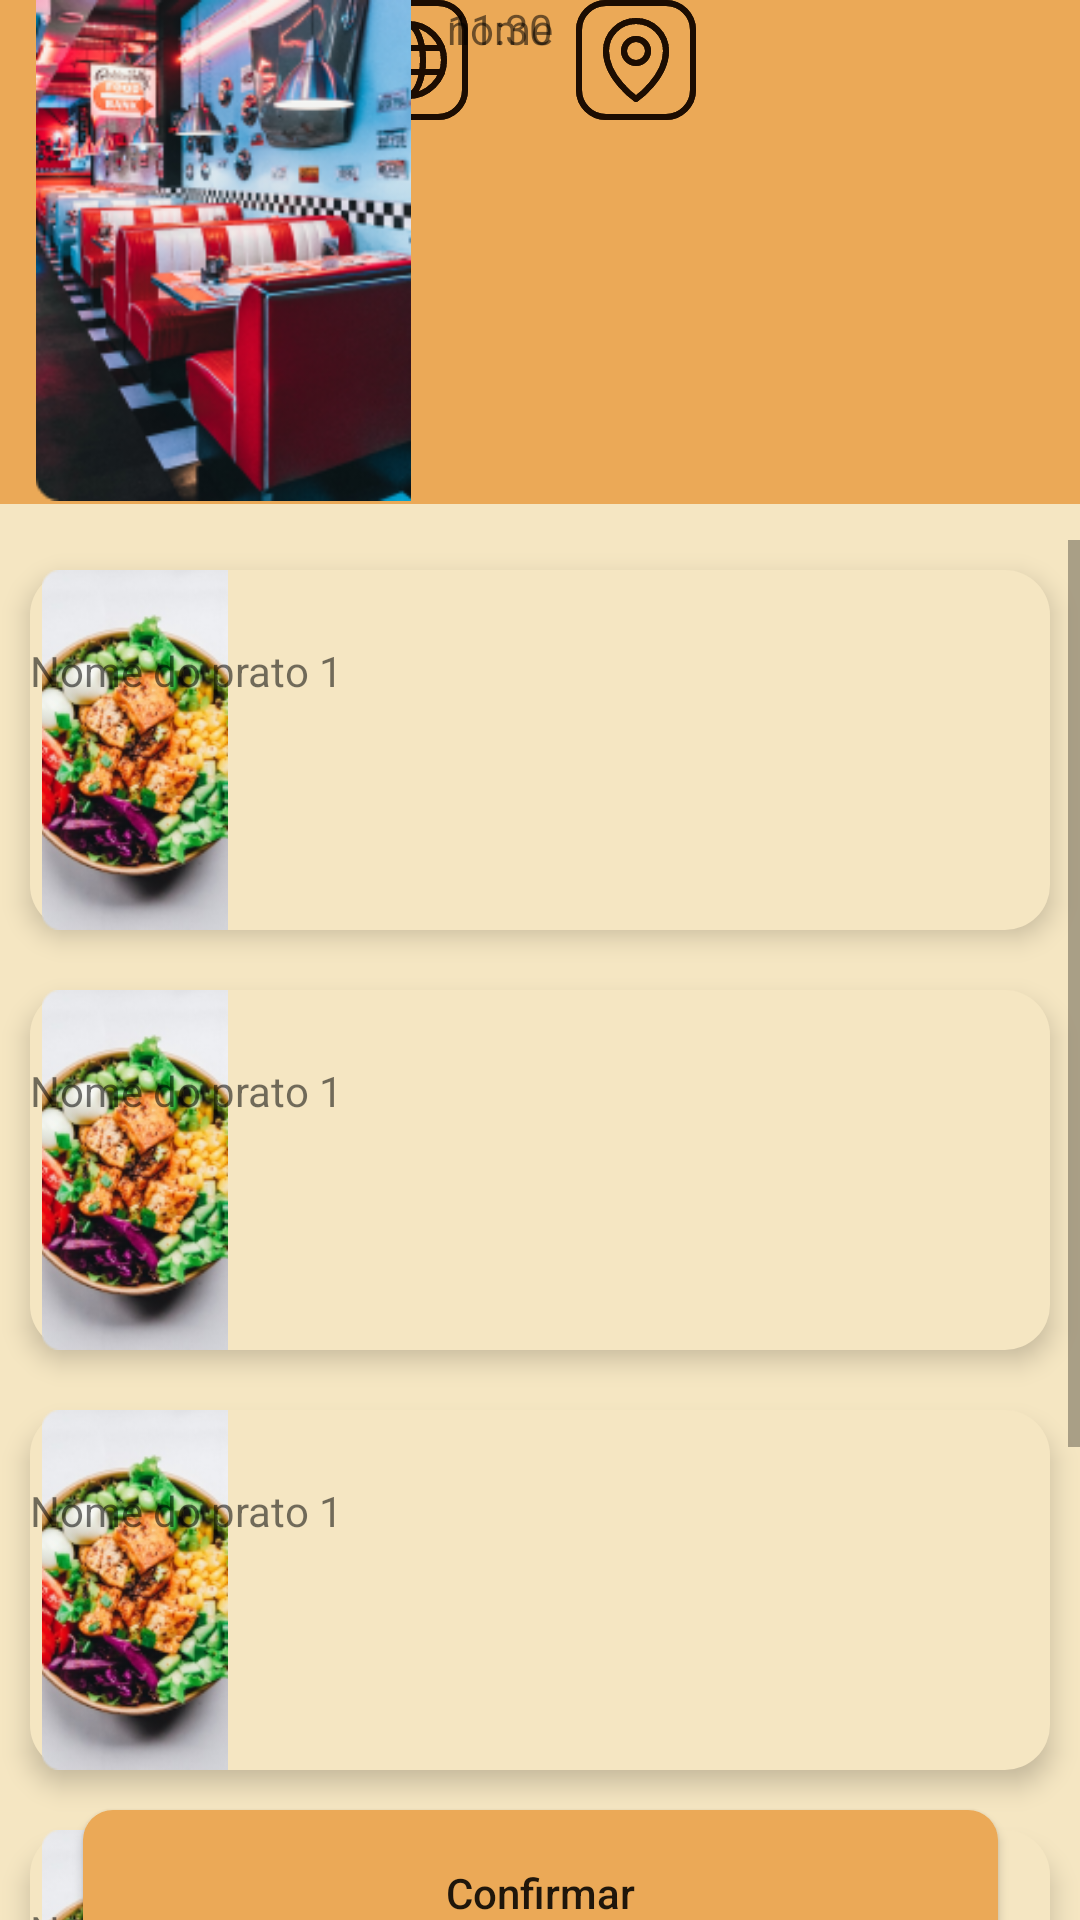

Point at icon controls on the screen. Image size 1080px x 1920px, points as (x,y).
pin: (636,60)
